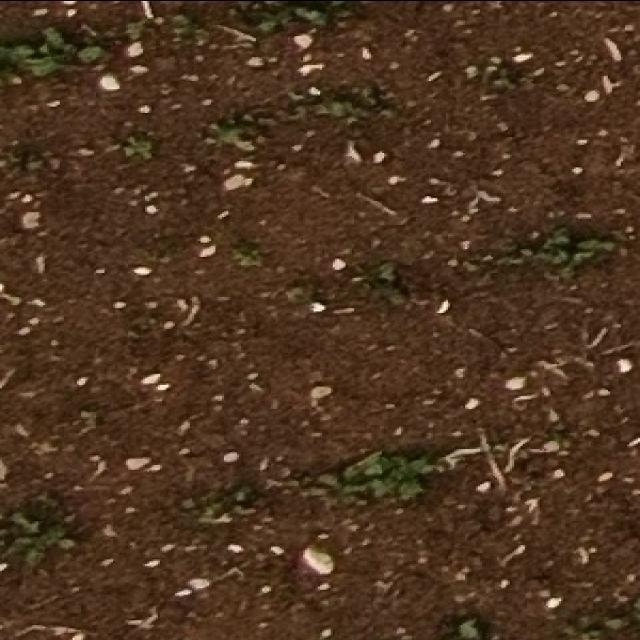cirse: (3, 481, 84, 547), (5, 482, 86, 546), (7, 491, 84, 554)
